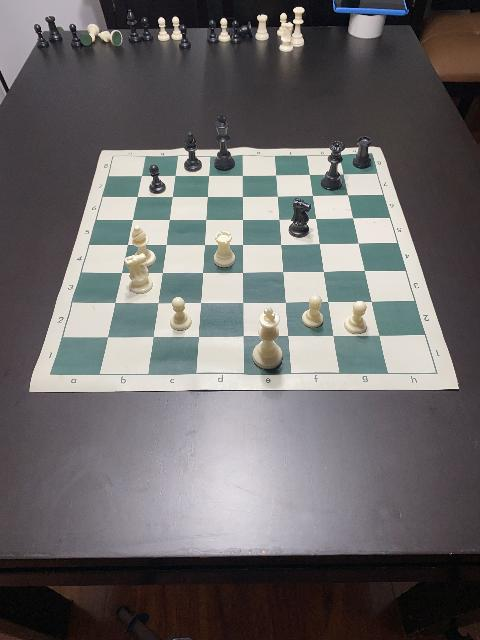black-bishop: (184, 131, 204, 171)
black-king: (216, 113, 236, 171)
black-knight: (289, 198, 311, 238)
black-pawn: (150, 164, 168, 194)
black-queen: (322, 141, 344, 189)
black-rook: (353, 136, 373, 168)
board: (32, 146, 460, 390)
white-bishop: (133, 226, 157, 266)
white-king: (253, 306, 284, 370)
white-knight: (126, 253, 154, 293)
white-pawn: (344, 300, 368, 334), (170, 296, 194, 330), (302, 294, 324, 328), (258, 295, 280, 327)
white-rook: (214, 230, 236, 268)
